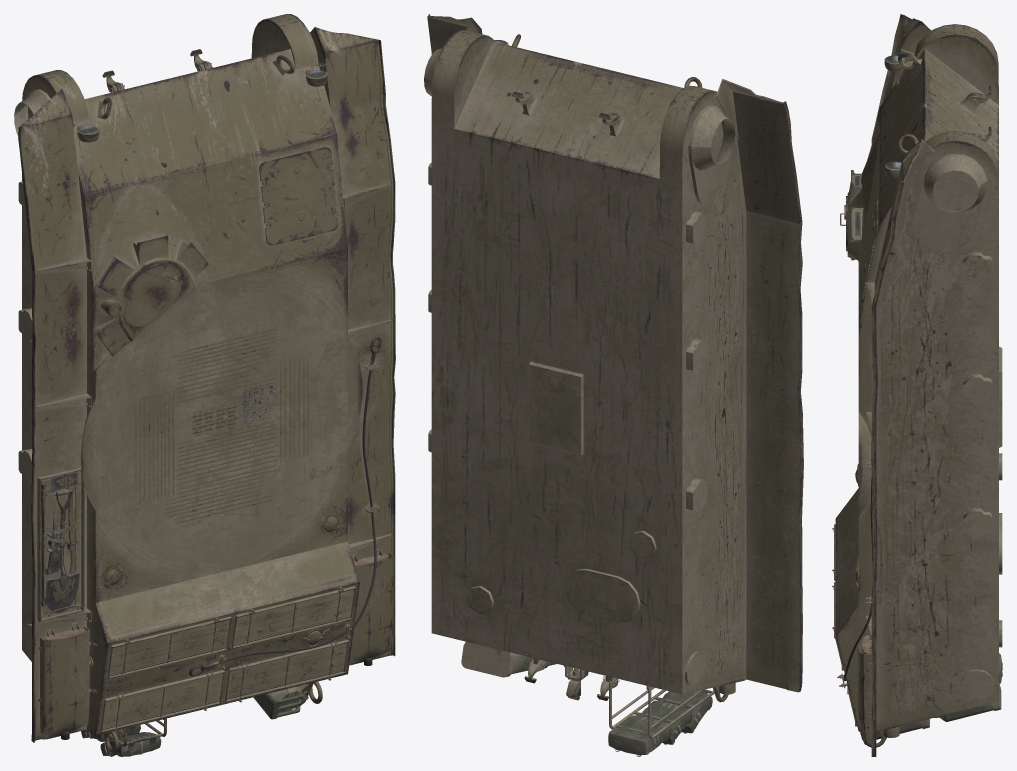
The model's file is Hull.glb.
The picture shows the model from 3 angles, left to right: view 1: azimuth 30°, elevation 25°; view 2: azimuth 150°, elevation 25°; view 3: azimuth 270°, elevation 25°; orthographic projection. The views are drawn at different scales.
Visible parts, largest first — view 1: set_0_group_0; view 2: set_0_group_0; view 3: set_0_group_0.
Boxes of the visible parts, box(x1,y1,x2,y2) form: set_0_group_0: box(14, 14, 395, 756); set_0_group_0: box(424, 14, 803, 756); set_0_group_0: box(832, 14, 1002, 756).
Size of the model in its own units: 2.76 by 4.91 by 1.18.
Materials: 1 (1 with a texture image).
